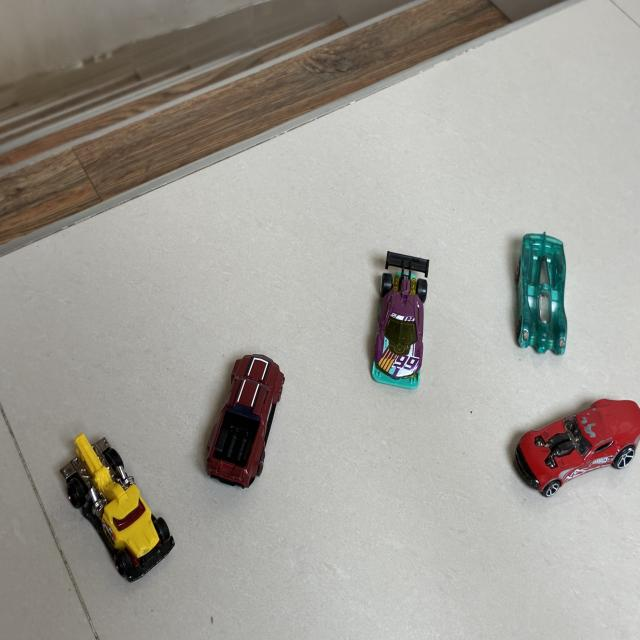cars: (61, 434, 174, 581), (515, 400, 640, 497), (206, 354, 284, 487), (372, 252, 429, 388), (516, 233, 567, 354)
